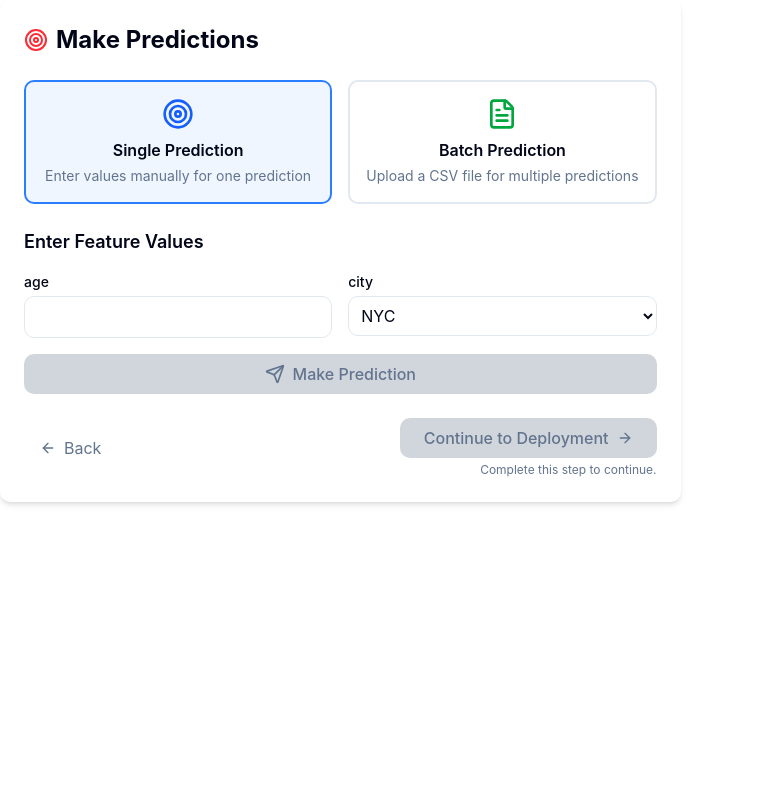
Test: PredictPage — enrichment panels (#83) › shows the low-confidence warning with the threshold when flagged
The image size is (768, 803).
Type "42" into the number field labelled "age" at (178, 317), box [24,296,332,338]
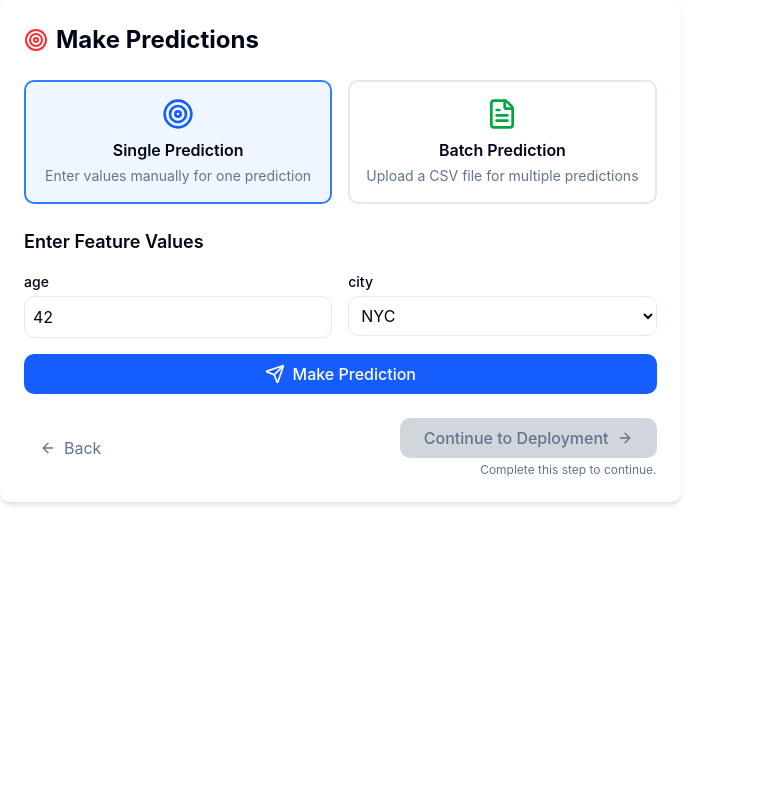
Click the button with test id "make-prediction" at (340, 374), box [24,354,656,394]
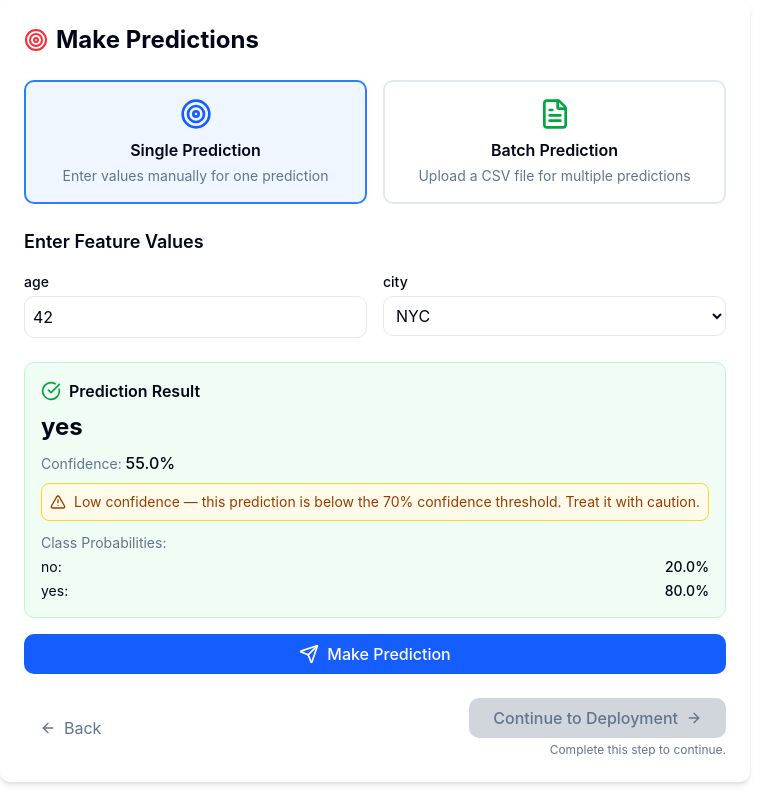
Now the element with test id "low-confidence-warning" shows "Low confidence", box [74,493,379,510]
Now the element with test id "low-confidence-warning" shows "70%", box [383,493,413,510]
